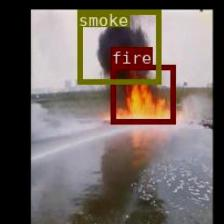fire: (111, 64, 174, 122)
smoke: (77, 8, 160, 83)
